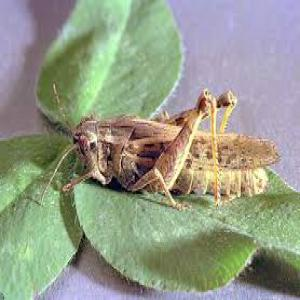locust: (57, 83, 296, 242)
